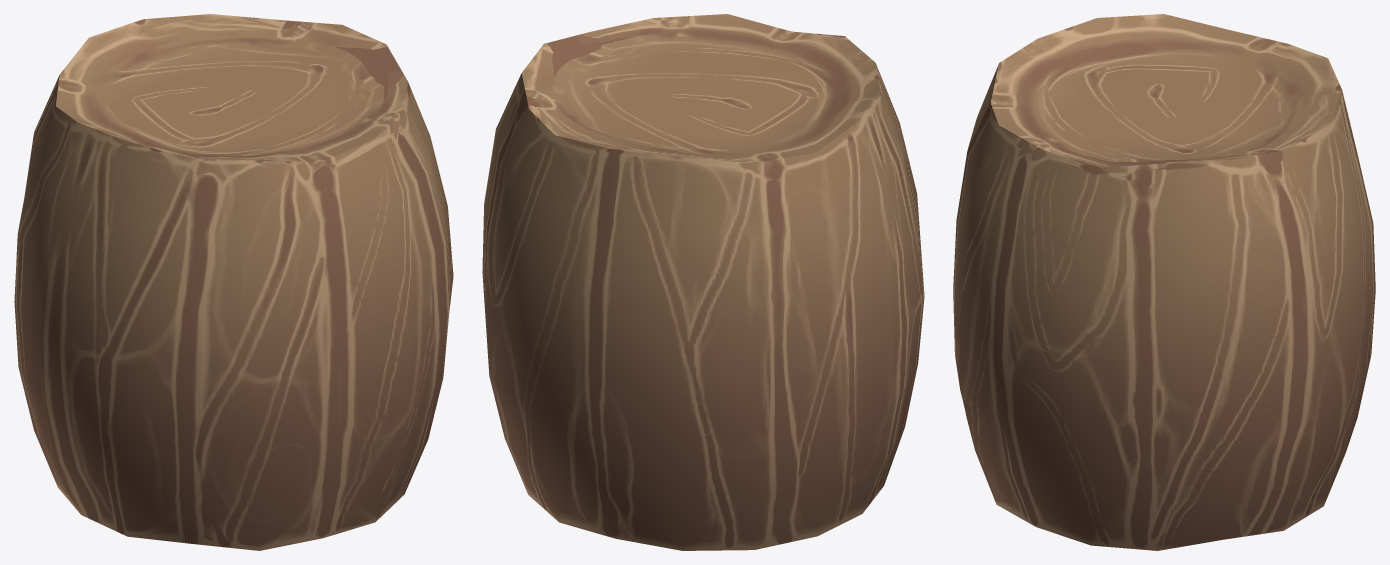
The model's file is barrel.fbx.
3 renders of one model, left to right at view 1: azimuth 30°, elevation 25°; view 2: azimuth 150°, elevation 25°; view 3: azimuth 270°, elevation 25°, orthographic. The views are drawn at different scales.
Parts seen in each view (by area): view 1: barrel1_low; view 2: barrel1_low; view 3: barrel1_low.
Part boxes in pixels (bbox=[...]): barrel1_low: bbox=[14, 14, 453, 550]; barrel1_low: bbox=[482, 14, 924, 550]; barrel1_low: bbox=[953, 14, 1375, 550].
Bounding box in the file's own units: 89.99 × 88.25 × 86.06.
